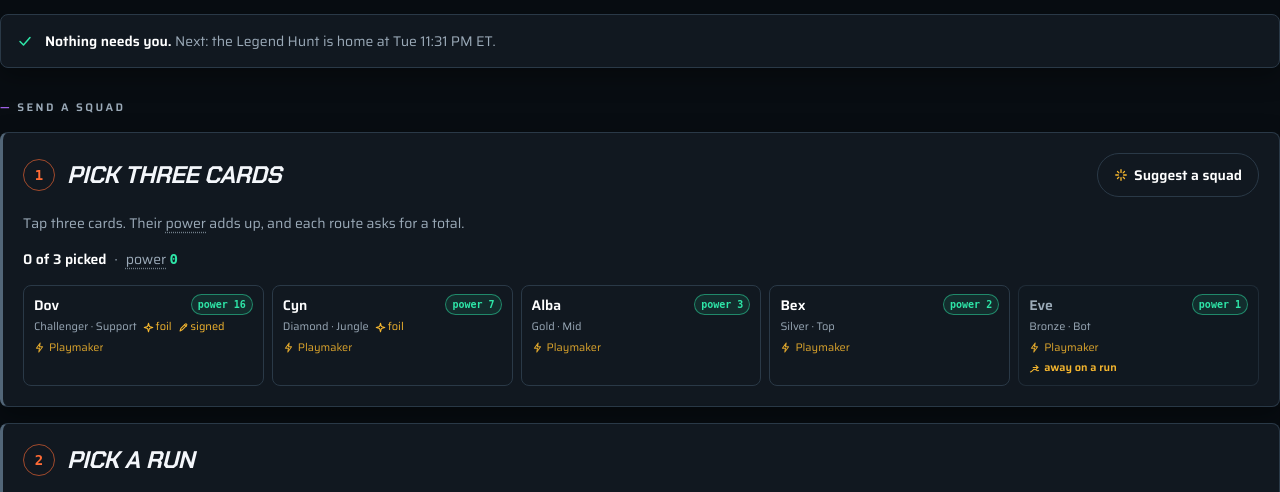
Test case: ExpeditionBoard — tier cards › shuts a tier whose run is still in the field, and leaves the others open
The width and height of the screenshot is (1280, 492).
Click the button "Alba power 3 Gold · Mid Playmaker".
click(641, 335)  # box left=521, top=285, right=761, bottom=386
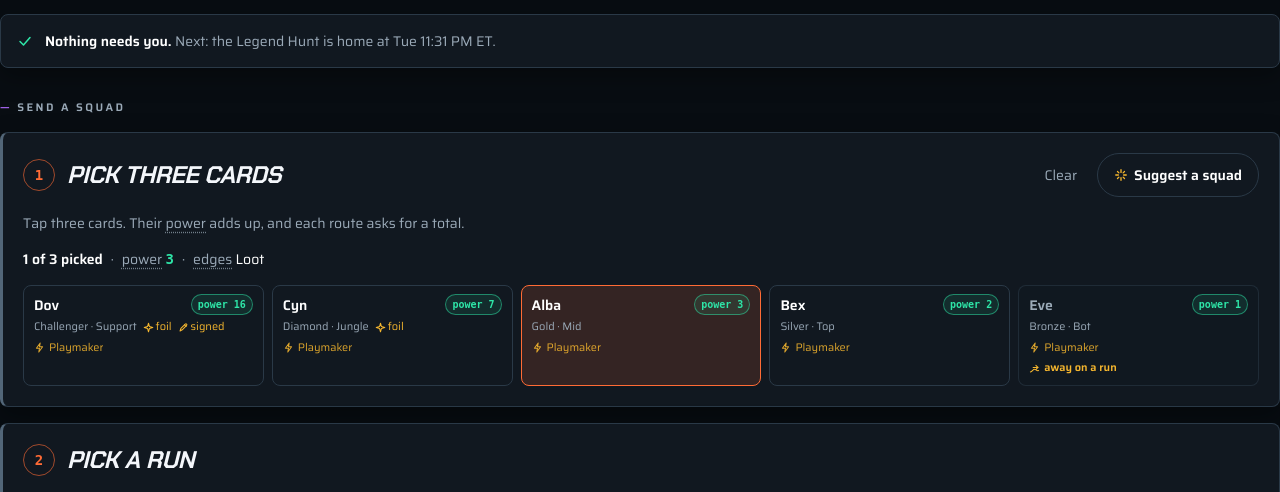
Click the button "Bex power 2 Silver · Top Playmaker".
click(890, 335)  # box left=769, top=285, right=1010, bottom=386
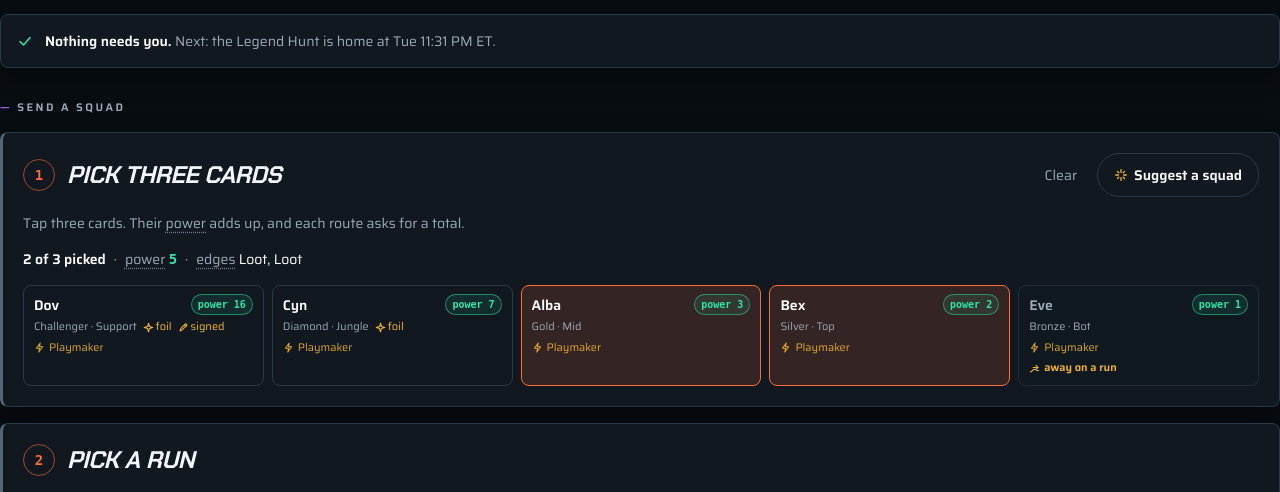
Click the button "Cyn power 7 Diamond · Jungle foil Playmaker".
click(392, 335)  # box left=272, top=285, right=513, bottom=386
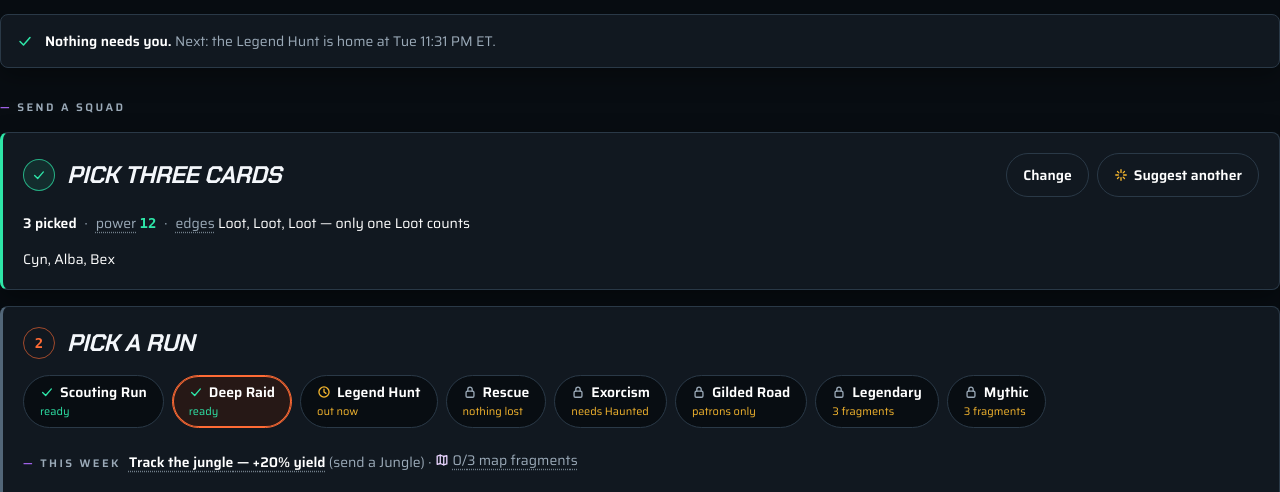
Click the button with test id "route-pill-legend".
click(369, 401)  # box left=300, top=375, right=438, bottom=428
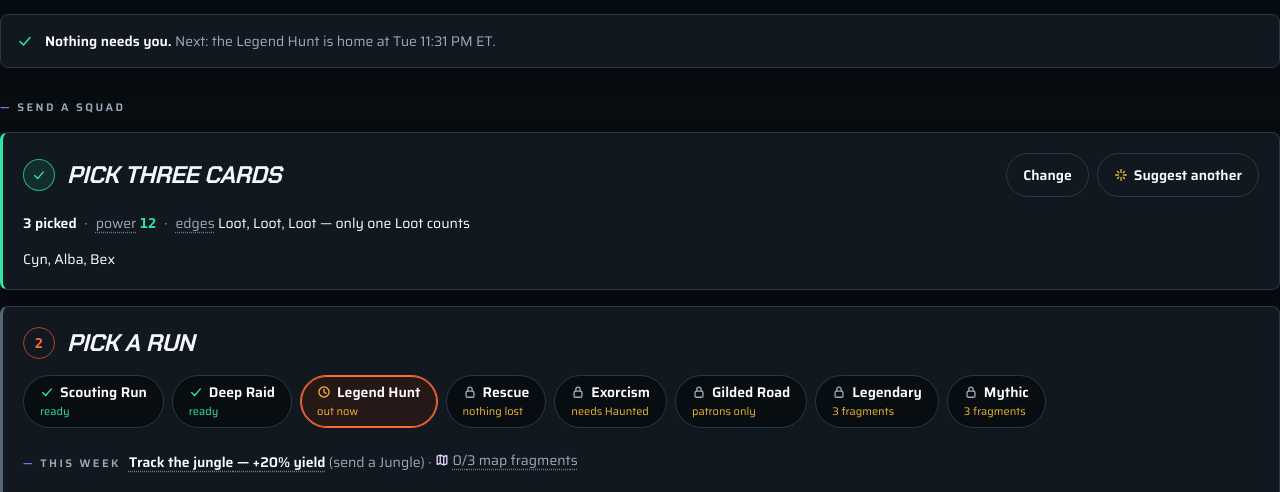
Click the button "Deep Raid ready".
click(232, 401)  # box left=172, top=375, right=292, bottom=428
(page scrolled)
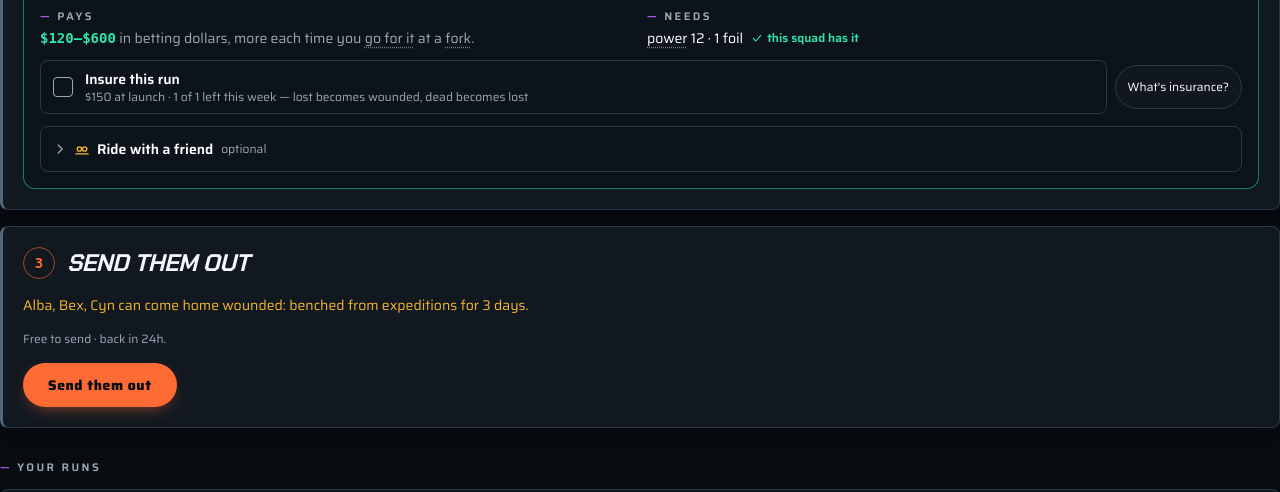
Result: the button with aria-label "Launch Deep Raid" is enabled at left=23, top=363, right=177, bottom=407
